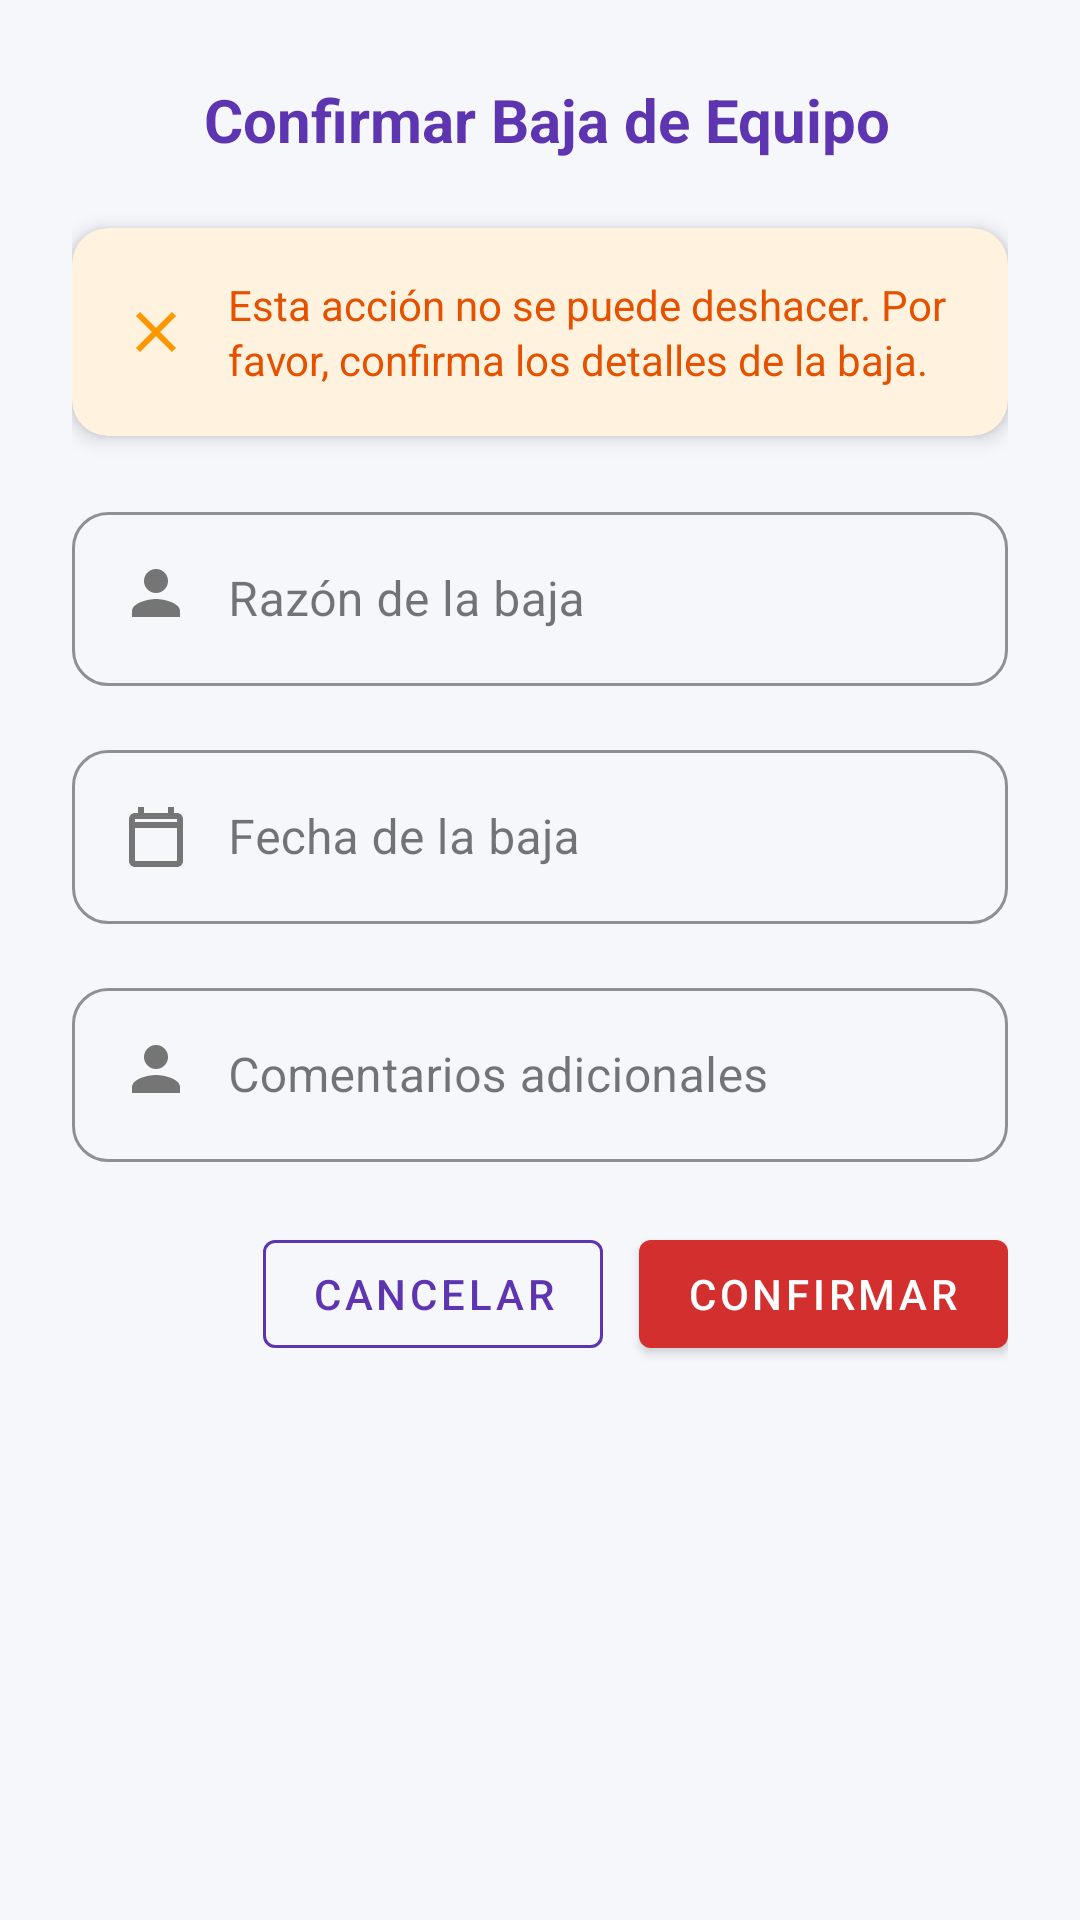

Point at icon controls on the screen. Image size 1080*1920, points as [x,y].
close: [156,332]
